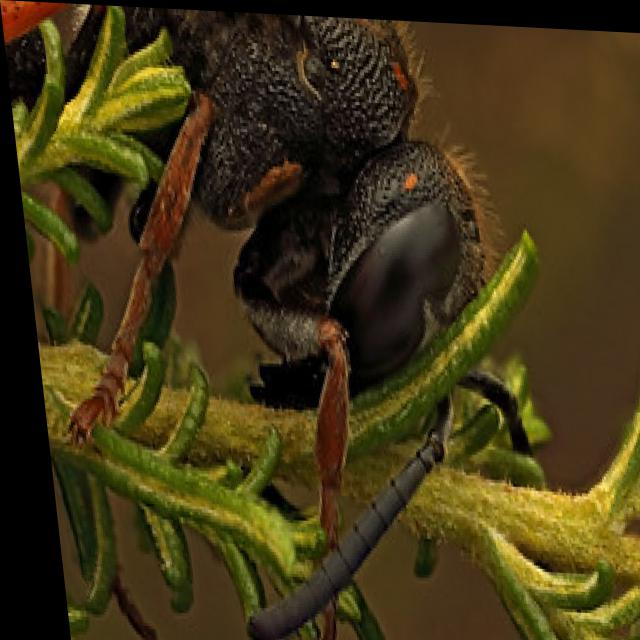Guepe: (0, 0, 529, 558)
